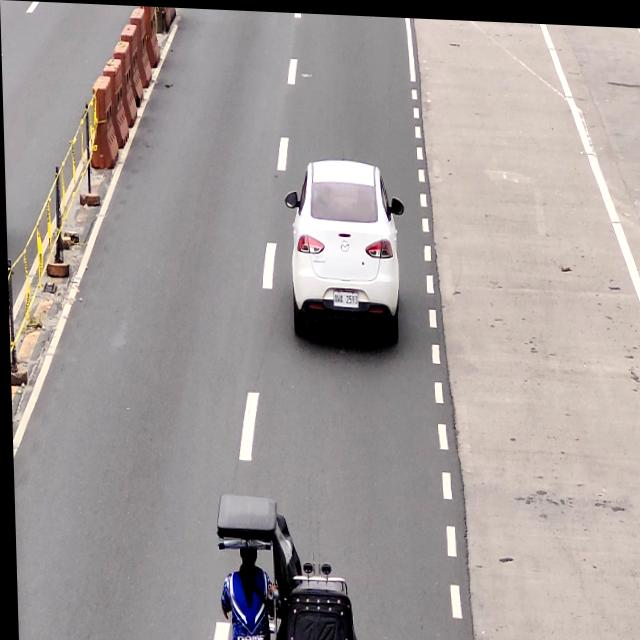Car: (285, 157, 402, 339)
License-Plate: (330, 287, 358, 308)
Tricycle: (211, 491, 357, 640)
